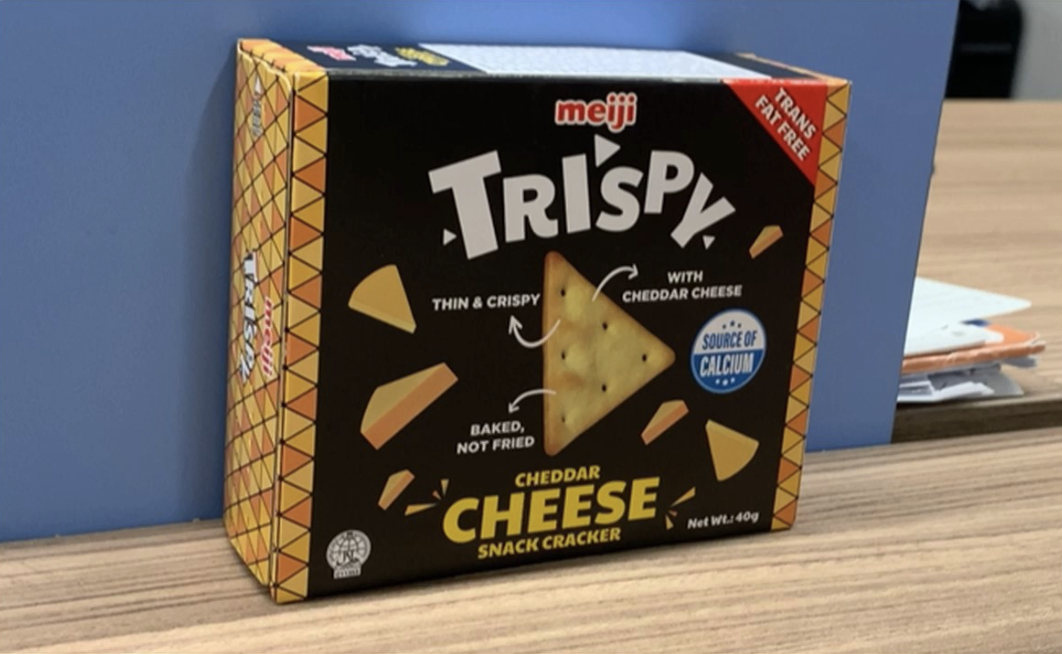crackers_1g-99g: (317, 95, 780, 531)
